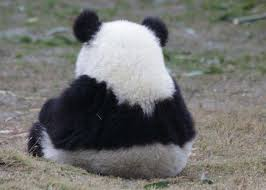panda: (21, 3, 208, 183)
